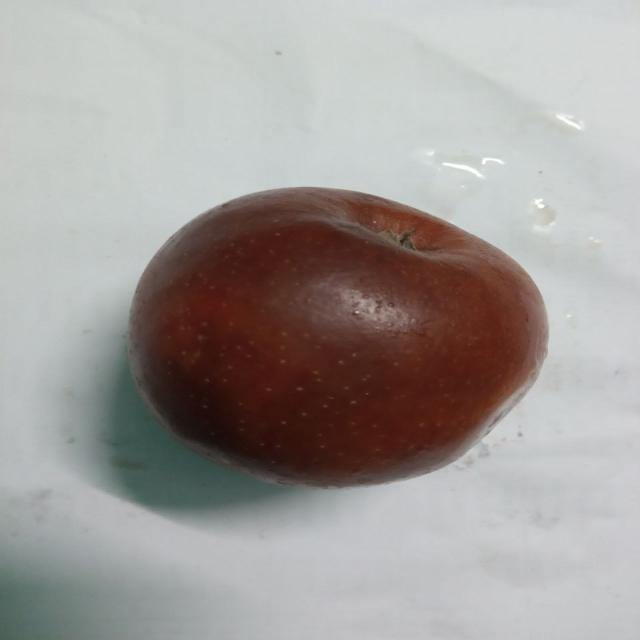fresh_apple: (126, 187, 548, 487)
